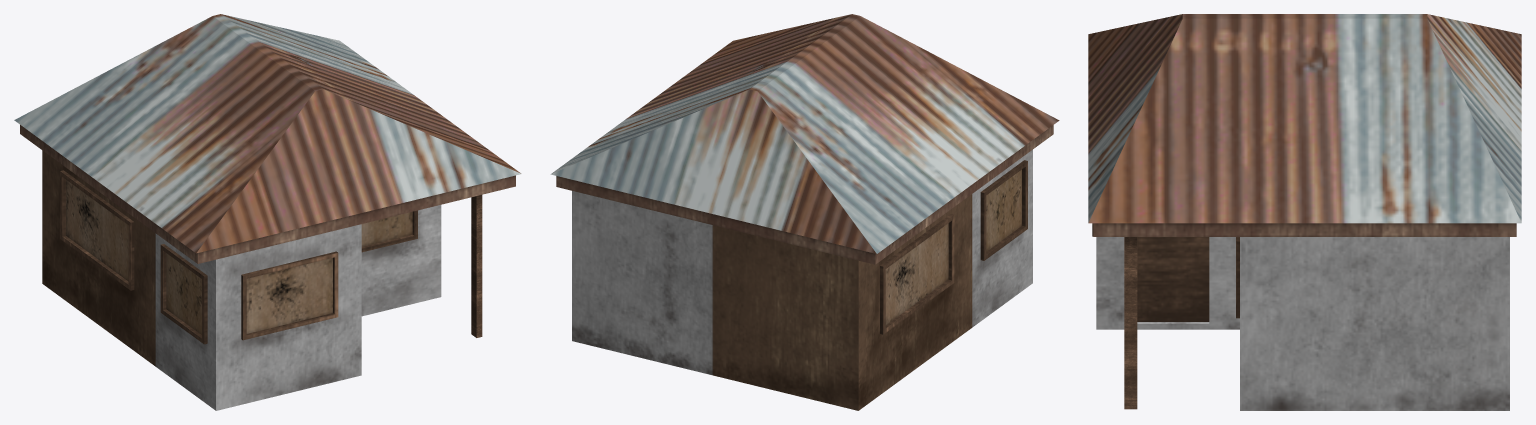
Rendered from small-house.glb.
3 renders of one model, left to right at view 1: azimuth 30°, elevation 25°; view 2: azimuth 150°, elevation 25°; view 3: azimuth 270°, elevation 25°, orthographic. The views are drawn at different scales.
Visible parts, largest first — view 1: roof.004, main-col, support-col; view 2: roof.004, main-col; view 3: roof.004, main-col, support-col.
Boxes of the visible parts, left/top/right/bottom form: roof.004: left=14, top=14, right=521, bottom=263; main-col: left=42, top=150, right=441, bottom=410; support-col: left=471, top=195, right=482, bottom=337; roof.004: left=550, top=14, right=1059, bottom=264; main-col: left=572, top=149, right=1032, bottom=410; roof.004: left=1088, top=14, right=1521, bottom=236; main-col: left=1092, top=223, right=1509, bottom=410; support-col: left=1124, top=237, right=1137, bottom=409.
Size of the model in its own units: 14.74 by 11.35 by 14.27.
Materials: 5 (5 with a texture image).
